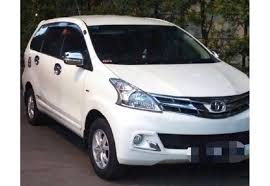mobil: (21, 13, 250, 176)
